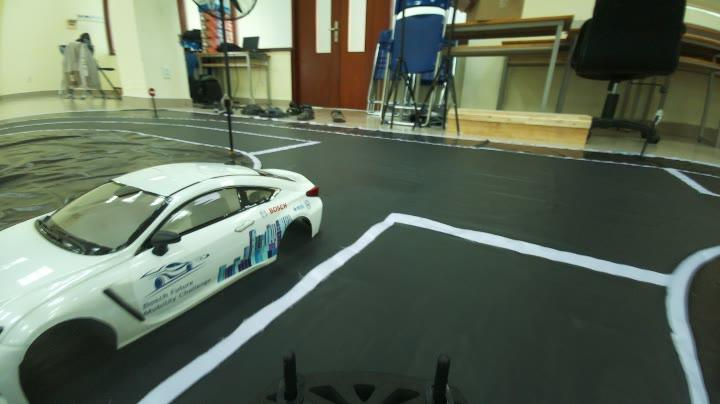car: (5, 158, 323, 378)
